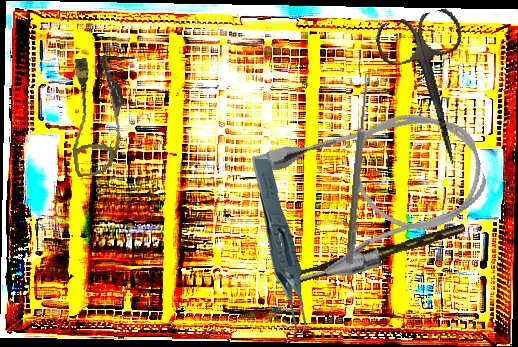Cannula: (239, 93, 501, 297), (60, 53, 133, 178)
Iris Scissors: (372, 5, 493, 176)
Surgical Spoon: (345, 72, 372, 265)
Tissue Forceps: (247, 159, 310, 341), (288, 223, 468, 286)
